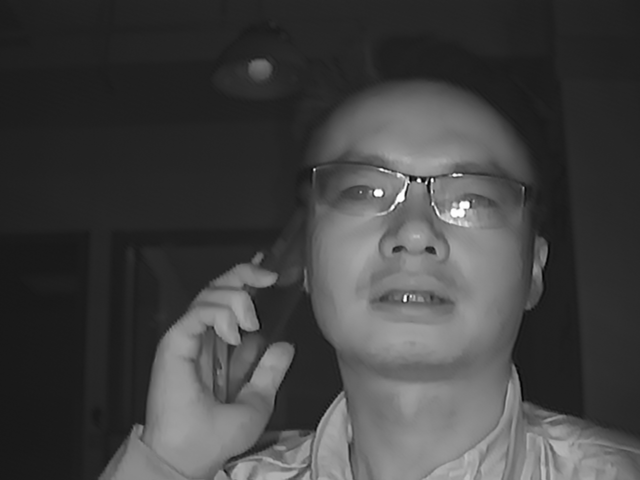hand: (148, 260, 292, 456)
